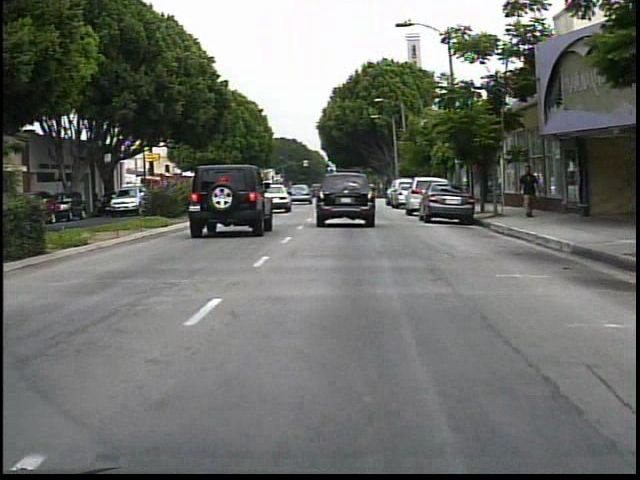person: (515, 164, 541, 223)
